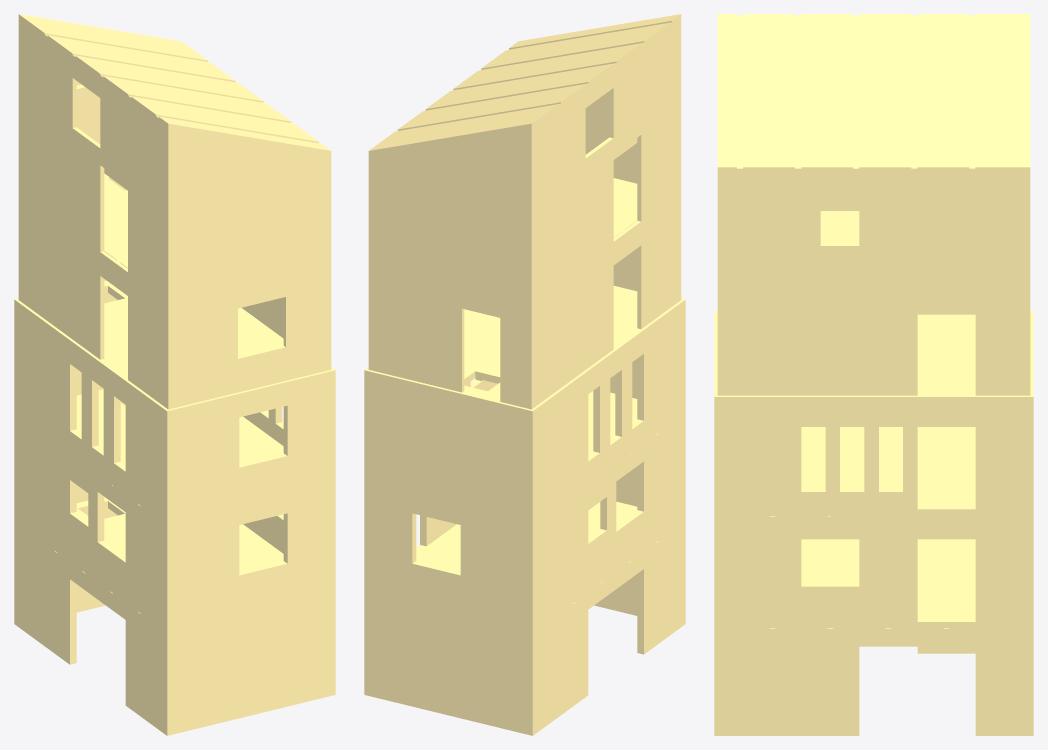
Rendered from Pymelab.glb.
3 renders of one model, left to right at view 1: azimuth 30°, elevation 25°; view 2: azimuth 150°, elevation 25°; view 3: azimuth 270°, elevation 25°, orthographic. The views are drawn at different scales.
Visible parts, largest first — view 1: Muro_básico_CLT_99_853901, Muro_básico_CLT_99_850475, Muro_básico_CLT_99_850476, Muro_básico_CLT_99_853885, Muro_básico_CLT_99_850611, Muro_básico_CLT_99_850511, Muro_básico_CLT_99_851005, Muro_básico_CLT_165_849957, Muro_básico_CLT_165_850072, Muro_básico_CLT_165_850037, Muro_básico_CLT_99_850558, Muro_básico_CLT_165_849958 (+60 smaller); view 2: Muro_básico_CLT_99_853901, Muro_básico_CLT_99_850493, Muro_básico_CLT_99_850494, Muro_básico_CLT_99_853871, Muro_básico_CLT_99_850491, Muro_básico_CLT_99_851005, Muro_básico_CLT_99_850611, Muro_básico_CLT_99_850511, Muro_básico_CLT_165_849954, Muro_básico_CLT_165_849955, Muro_básico_CLT_165_850128, Muro_básico_CLT_165_850127 (+58 smaller); view 3: Muro_básico_CLT_99_850573, Muro_básico_CLT_99_850526, Muro_básico_CLT_99_850528, Muro_básico_CLT_99_850543, LC2_LC01_964342, LC8_LC01_964421, LC12_LC01_964462, LC3_LC01_964380, LC6_LC01_964574, Muro_básico_CLT_99_850588, Muro_básico_CLT_165_849962, Muro_básico_CLT_165_849998 (+45 smaller).
Part boxes in pixels (bbox=[...]): Muro_básico_CLT_99_853901: bbox=[20, 23, 165, 212]; Muro_básico_CLT_99_850475: bbox=[166, 204, 213, 409]; Muro_básico_CLT_99_850476: bbox=[284, 175, 331, 380]; Muro_básico_CLT_99_853885: bbox=[166, 129, 331, 214]; Muro_básico_CLT_99_850611: bbox=[72, 145, 104, 359]; Muro_básico_CLT_99_850511: bbox=[44, 125, 72, 339]; Muro_básico_CLT_99_851005: bbox=[128, 186, 155, 400]; Muro_básico_CLT_165_849957: bbox=[163, 622, 215, 734]; Muro_básico_CLT_165_850072: bbox=[163, 406, 215, 518]; Muro_básico_CLT_165_850037: bbox=[163, 514, 215, 626]; Muro_básico_CLT_99_850558: bbox=[238, 186, 285, 308]; Muro_básico_CLT_165_849958: bbox=[239, 604, 287, 716]; Muro_básico_CLT_99_853901: bbox=[534, 23, 679, 212]; Muro_básico_CLT_99_850493: bbox=[414, 186, 463, 392]; Muro_básico_CLT_99_850494: bbox=[368, 175, 413, 380]; Muro_básico_CLT_99_853871: bbox=[368, 129, 533, 214]; Muro_básico_CLT_99_850491: bbox=[500, 207, 533, 409]; Muro_básico_CLT_99_851005: bbox=[637, 115, 668, 329]; Muro_básico_CLT_99_850611: bbox=[585, 155, 613, 369]; Muro_básico_CLT_99_850511: bbox=[558, 176, 585, 389]; Muro_básico_CLT_165_849954: bbox=[412, 604, 460, 716]; Muro_básico_CLT_165_849955: bbox=[364, 592, 412, 704]; Muro_básico_CLT_165_850128: bbox=[364, 377, 412, 489]; Muro_básico_CLT_165_850127: bbox=[412, 389, 460, 501]; Muro_básico_CLT_99_850573: bbox=[859, 192, 917, 395]; Muro_básico_CLT_99_850526: bbox=[743, 192, 801, 395]; Muro_básico_CLT_99_850528: bbox=[801, 192, 859, 395]; Muro_básico_CLT_99_850543: bbox=[975, 192, 1025, 395]; LC2_LC01_964342: bbox=[972, 14, 1030, 174]; LC8_LC01_964421: bbox=[856, 14, 914, 174]; LC12_LC01_964462: bbox=[914, 14, 972, 174]; LC3_LC01_964380: bbox=[798, 14, 856, 174]; LC6_LC01_964574: bbox=[740, 14, 798, 174]; Muro_básico_CLT_99_850588: bbox=[917, 192, 975, 307]; Muro_básico_CLT_165_849962: bbox=[743, 628, 801, 734]; Muro_básico_CLT_165_849998: bbox=[801, 628, 859, 734].
Bounding box in the file's own units: 4.2 × 14.55 × 6.6.
